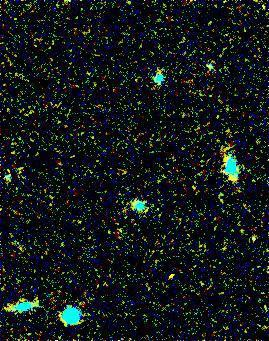star: (149, 260, 179, 290)
